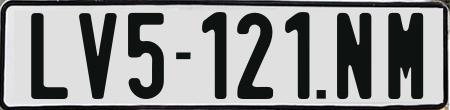1: (283, 10, 313, 102), (199, 11, 228, 102)
2: (235, 12, 277, 102)
5: (125, 11, 165, 102)
L: (28, 13, 66, 105)
M: (388, 13, 428, 101)
N: (336, 11, 375, 100)
V: (79, 11, 117, 97)
